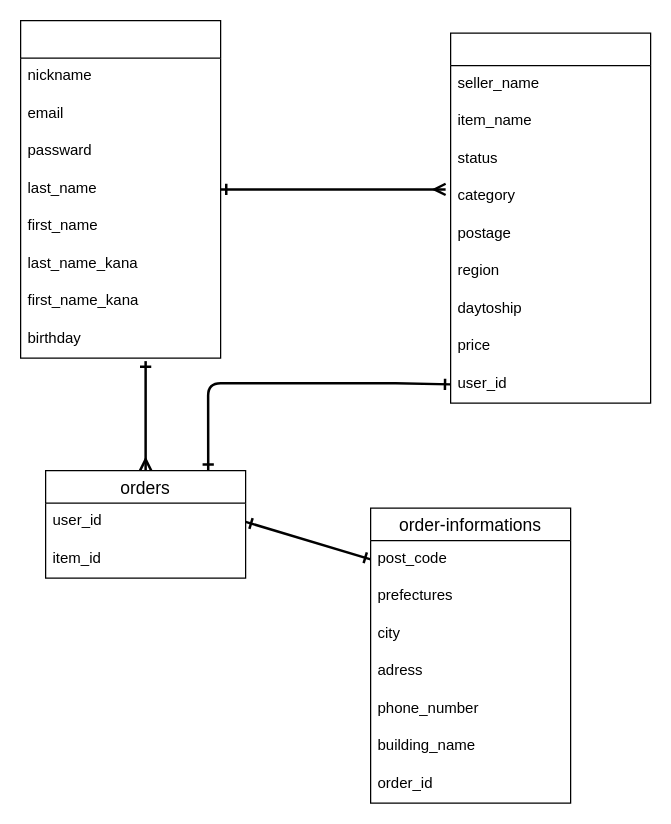
The diagram is 671 pixels wide and 824 high, and some of its shapes have lost their labels. The box of each missing label's shape, as (x1, y1, x2, y2) in pixels:
items: (449, 32, 651, 403)
users: (19, 19, 221, 358)
